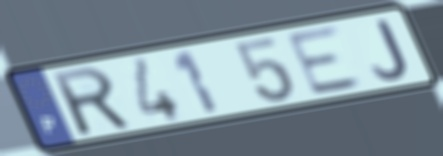1: (173, 48, 224, 114)
4: (131, 55, 183, 123)
5: (229, 34, 297, 103)
E: (283, 22, 369, 98)
J: (370, 17, 412, 81)
R: (47, 64, 136, 139)
